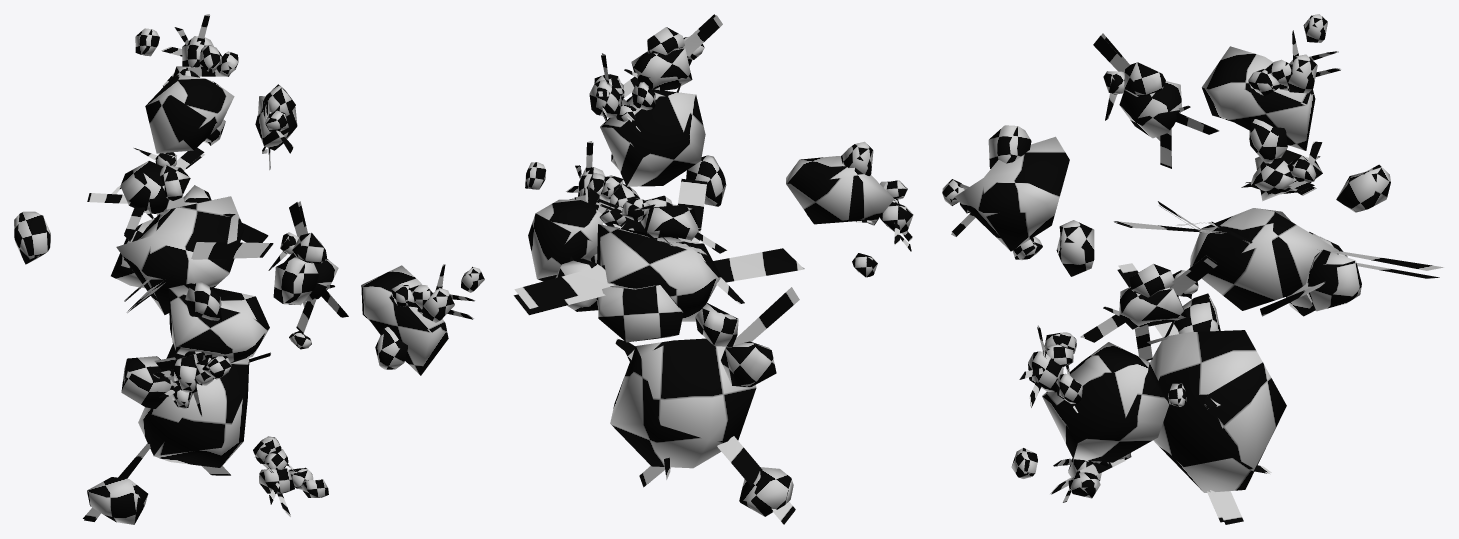
The model's file is zone_asteroid_pirates6.obj.
The picture shows the model from 3 angles, left to right: view 1: azimuth 30°, elevation 25°; view 2: azimuth 150°, elevation 25°; view 3: azimuth 270°, elevation 25°; orthographic projection. The views are drawn at different scales.
Visible parts, largest first — view 1: Object002; view 2: Object002; view 3: Object002.
Boxes of the visible parts, x1,y1,x2,y2 form: Object002: [14, 14, 484, 524]; Object002: [513, 14, 913, 524]; Object002: [942, 14, 1443, 524].
Bounding box in the file's own units: 263 × 321 × 284.
1 material, 1 textured.
